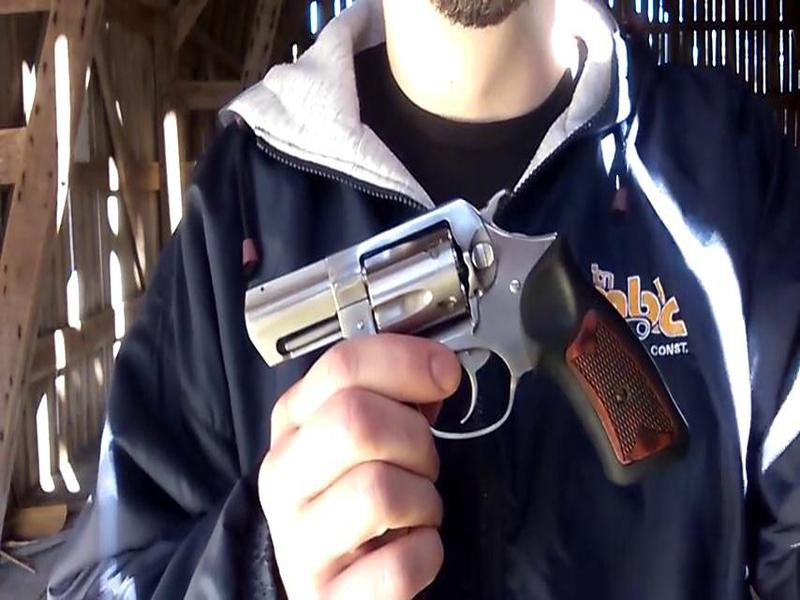Revolver: (257, 194, 674, 461)
